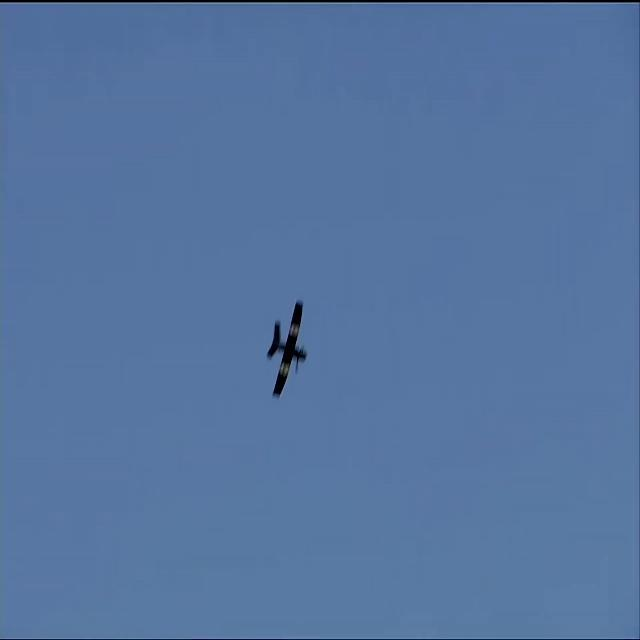iha: (260, 330, 314, 369)
